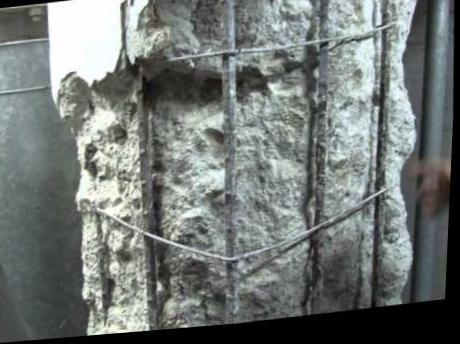damage: (56, 0, 419, 337)
